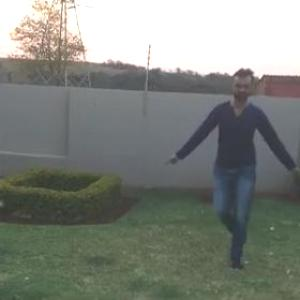land: (186, 74, 294, 232)
